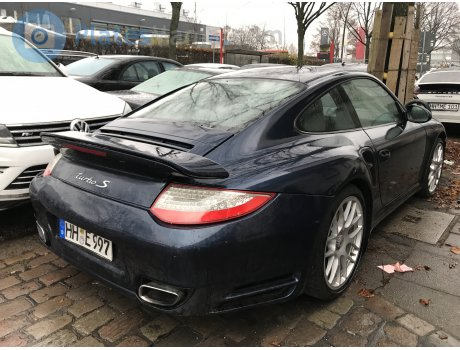License Plates: (54, 212, 118, 262)
